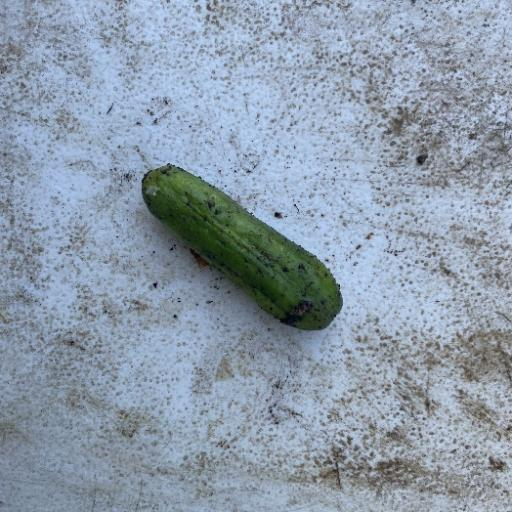Waste: (139, 162, 344, 332)
